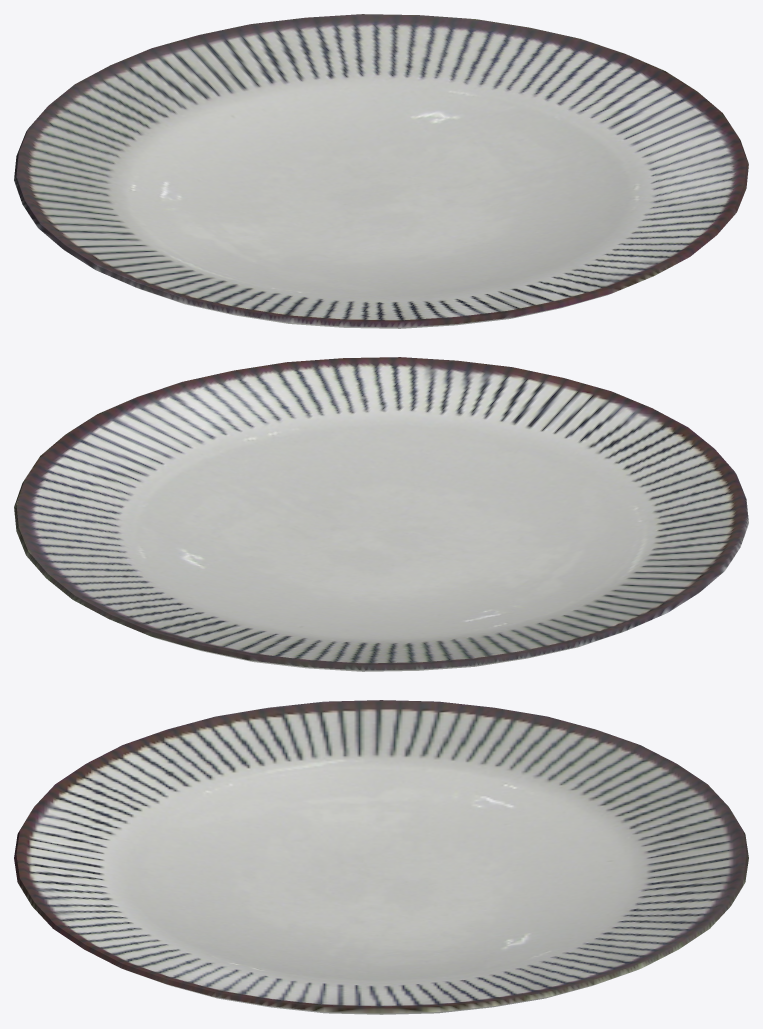
File: dish_A.fbx
3 renders of one model, top to bottom at view 1: azimuth 30°, elevation 25°; view 2: azimuth 150°, elevation 25°; view 3: azimuth 270°, elevation 25°, orthographic.
Parts seen in each view (by area): view 1: dish_A; view 2: dish_A; view 3: dish_A.
Boxes of the visible parts, box(x1,y1,x2,y2) form: dish_A: box(14, 14, 748, 328); dish_A: box(14, 357, 748, 671); dish_A: box(14, 700, 748, 1014).
Size of the model in its own units: 13.15 by 1.19 by 13.15.
Materials: 1 (1 with a texture image).
